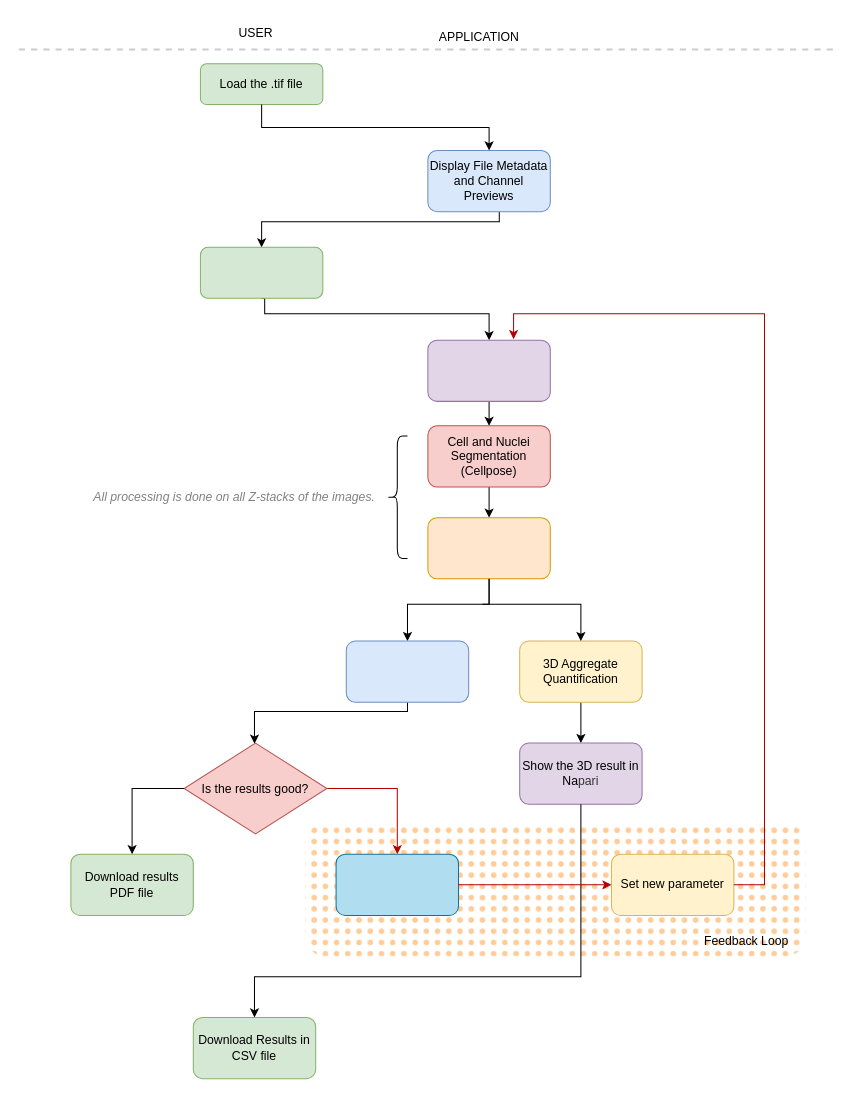
Some shapes in this 853 by 1097 pixel diagram are drawn without their labels. The box of each missing label's shape, as (x1, y1, x2, y2) in pixels:
Aggregate Detection (Threshold ): (427, 517, 550, 579)
Preprocess Image Stack: (427, 339, 550, 401)
Show all z-stacks results on the page: (345, 640, 469, 702)
Show Feedback secreen: (335, 853, 458, 915)
User Selects Relevant Channel(s): (199, 246, 323, 298)
